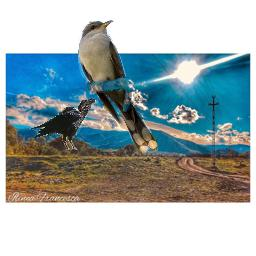Crow: (29, 98, 96, 150)
Cuckoo: (78, 20, 158, 154)
